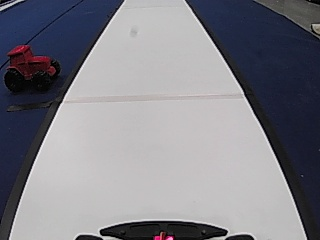tractor: (2, 41, 60, 93)
